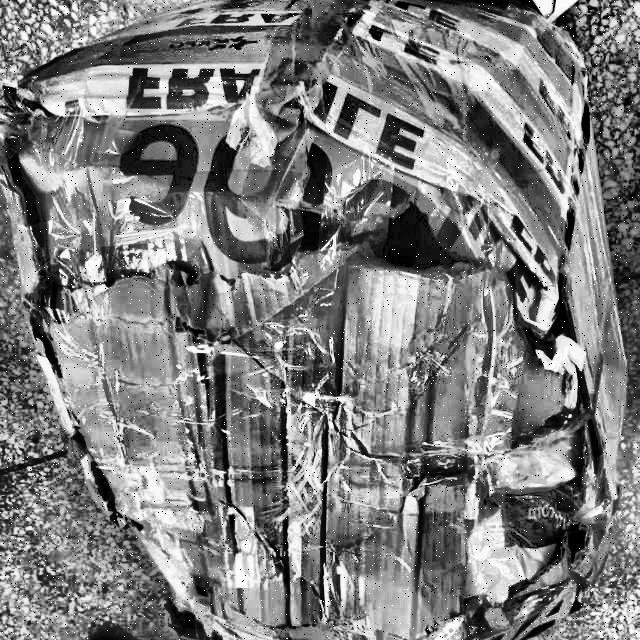box: (2, 6, 639, 640)
hole: (290, 173, 504, 273)
